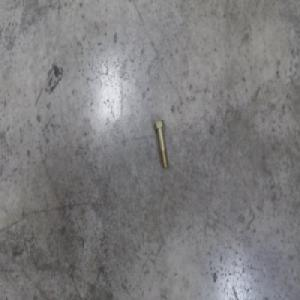Bolt: (153, 118, 168, 169)
